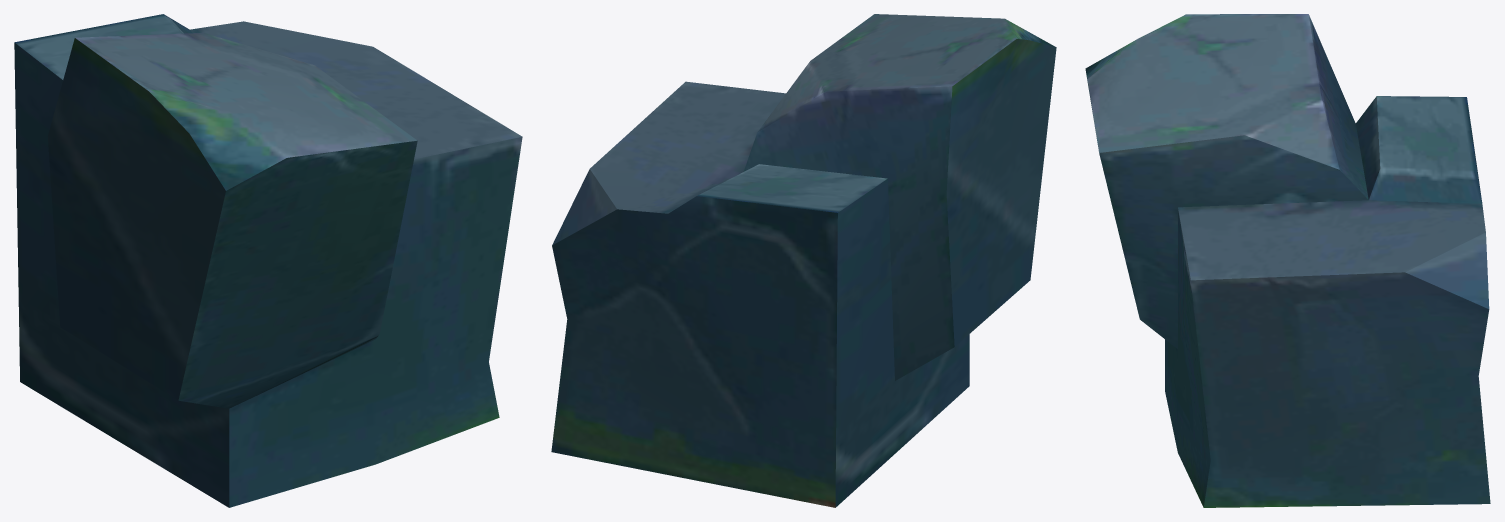
The model's file is map_111_shitou_8.fbx.
The picture shows the model from 3 angles, left to right: view 1: azimuth 30°, elevation 25°; view 2: azimuth 150°, elevation 25°; view 3: azimuth 270°, elevation 25°; orthographic projection. The views are drawn at different scales.
Visible parts, largest first — view 1: map_111_shitou_8; view 2: map_111_shitou_8; view 3: map_111_shitou_8.
Boxes of the visible parts, x1,y1,x2,y2 form: map_111_shitou_8: [14, 14, 522, 507]; map_111_shitou_8: [551, 14, 1056, 507]; map_111_shitou_8: [1085, 14, 1490, 507].
Bounding box in the file's own units: 0.8155 × 0.8524 × 0.8957.
